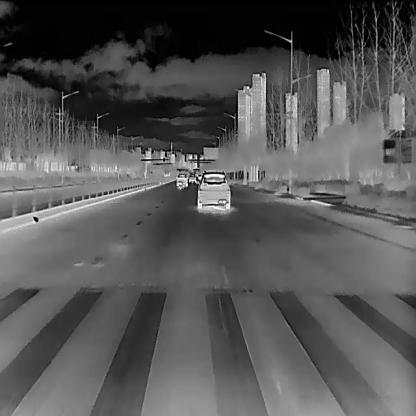car: (196, 170, 230, 209), (174, 173, 188, 189), (188, 172, 195, 182), (162, 169, 170, 176), (197, 173, 202, 180)
